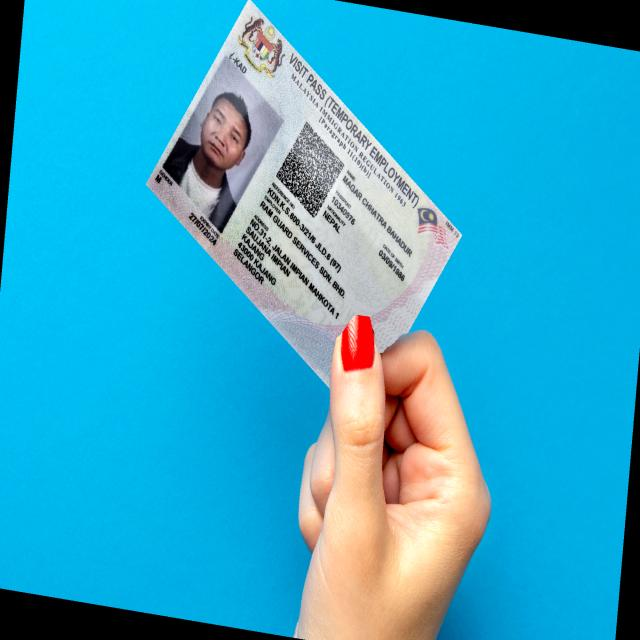ikad-temp: (145, 0, 463, 391)
